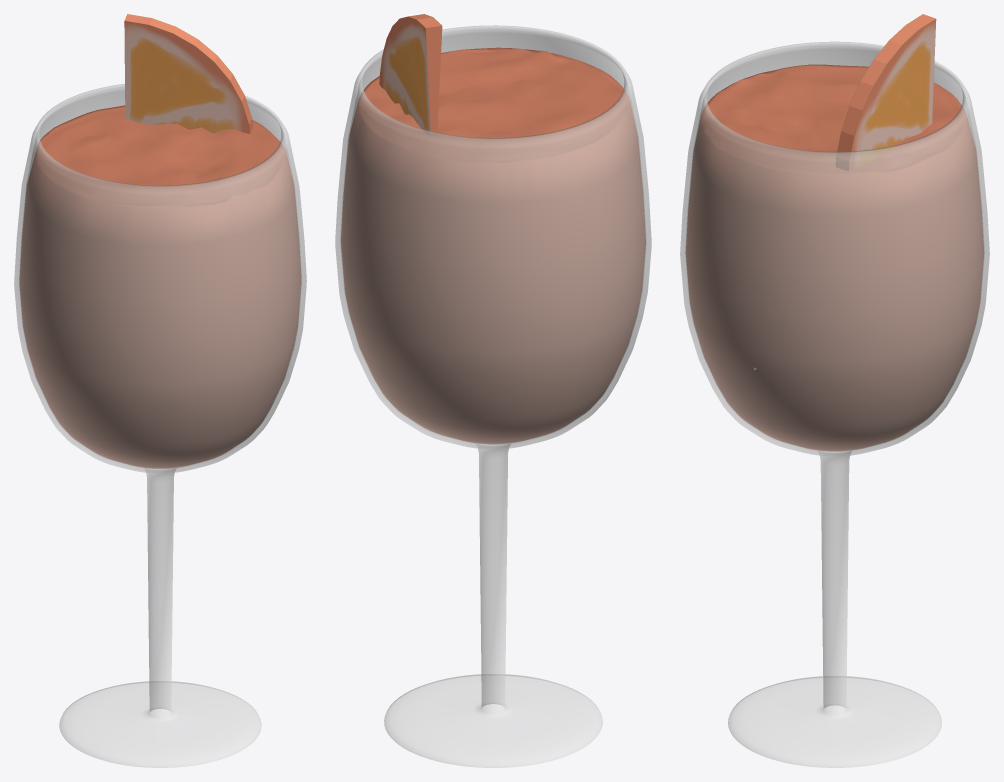
File: spritz.glb
3 renders of one model, left to right at view 1: azimuth 30°, elevation 25°; view 2: azimuth 150°, elevation 25°; view 3: azimuth 270°, elevation 25°, orthographic. The views are drawn at different scales.
Parts seen in each view (by area): view 1: Wine; view 2: Wine; view 3: Wine.
Part boxes in pixels (box(x1,y1,x2,y2)): Wine: box(14, 14, 306, 767); Wine: box(335, 14, 651, 767); Wine: box(680, 14, 989, 767).
Size of what is drawn, in the model's own units: 0.1191 by 0.3018 by 0.1191.
4 materials, 1 textured.
